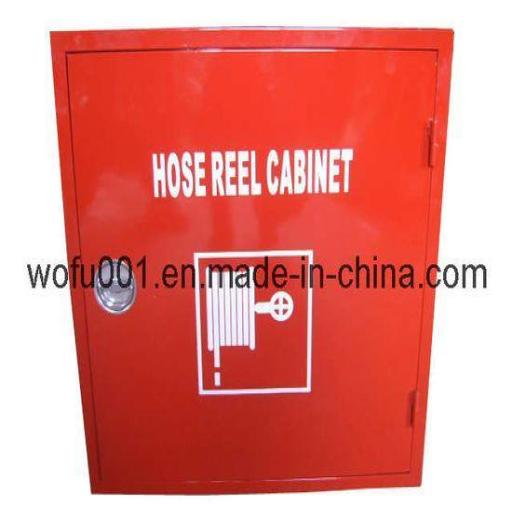fire_hose: (46, 20, 446, 502)
